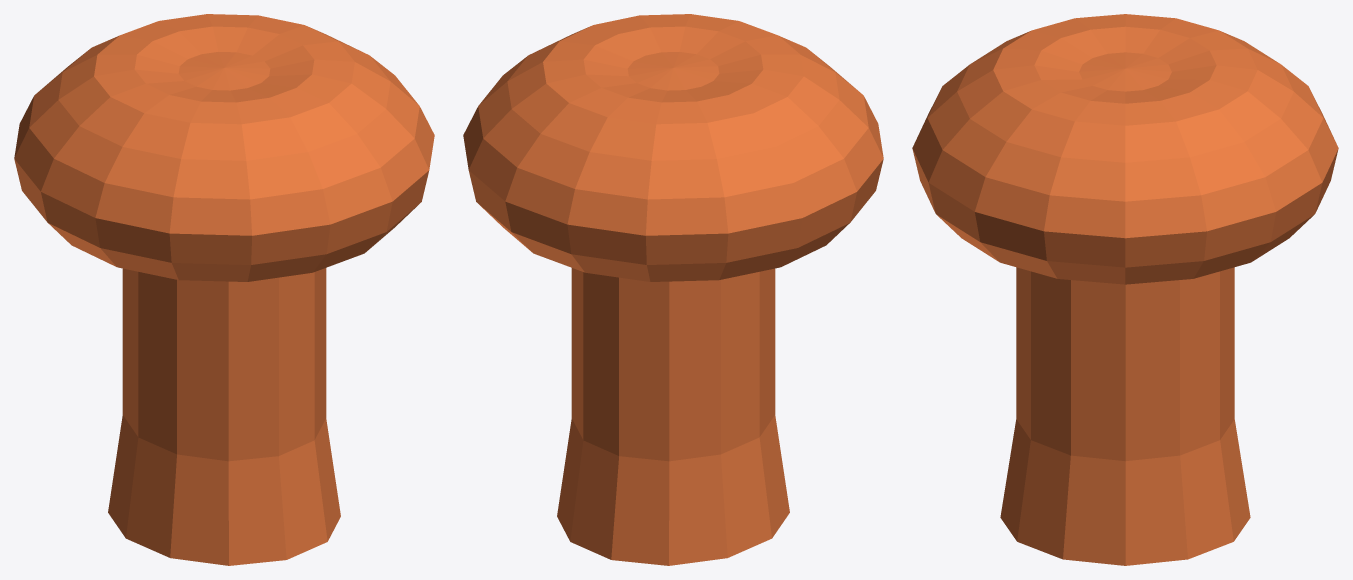
Rendered from Lactarius_little.fbx.
The picture shows the model from 3 angles, left to right: view 1: azimuth 30°, elevation 25°; view 2: azimuth 150°, elevation 25°; view 3: azimuth 270°, elevation 25°; orthographic projection.
Visible parts, largest first — view 1: Sphere; view 2: Sphere; view 3: Sphere.
Boxes of the visible parts, <box> form: Sphere: <box>14,14,434,565</box>; Sphere: <box>463,14,883,565</box>; Sphere: <box>912,14,1338,565</box>.
Bounding box in the file's own units: 26.64 × 31.18 × 26.64.
